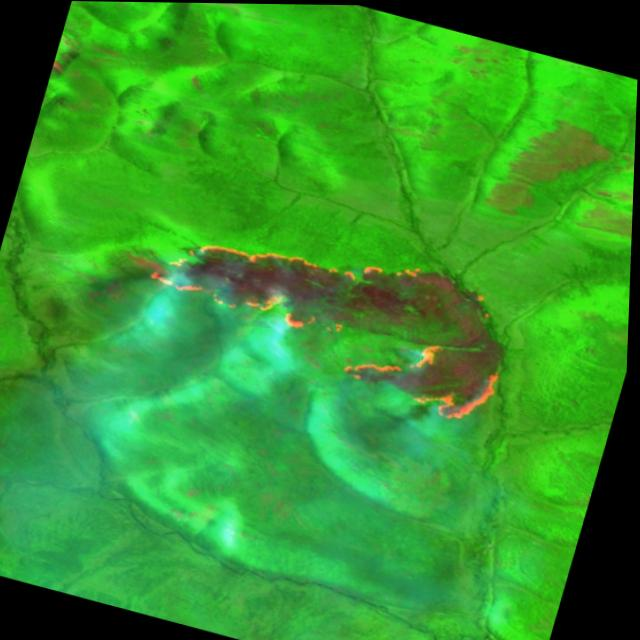fire: (90, 184, 544, 442)
